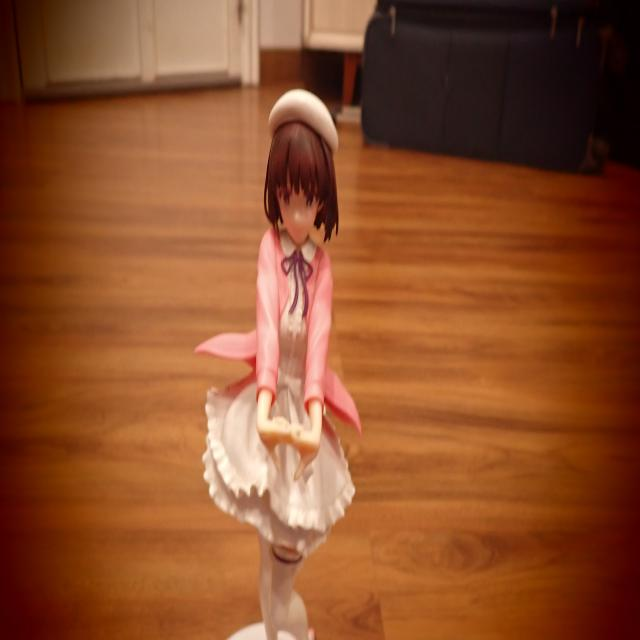My-pink-anime-figure: (197, 90, 360, 639)
